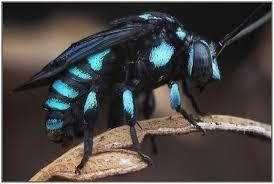Thyreus: (15, 3, 221, 161)
